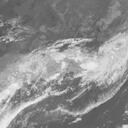cyclone: (35, 36, 100, 100)
